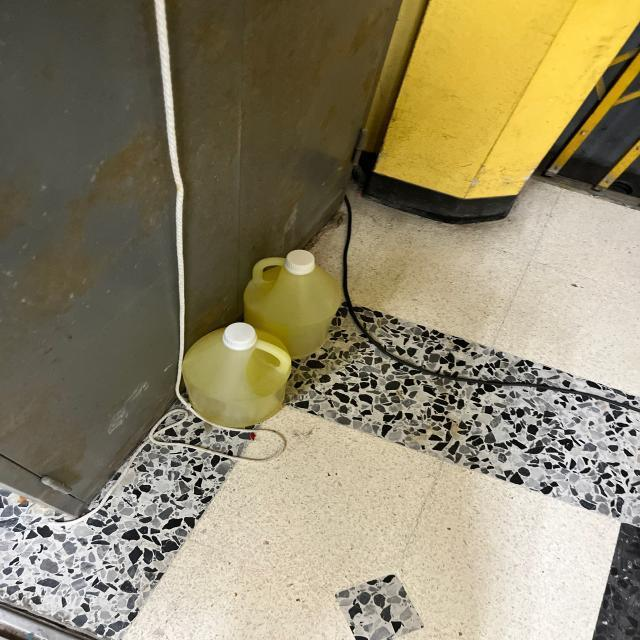HDPE Plastic: (181, 323, 296, 424), (240, 250, 346, 358)
